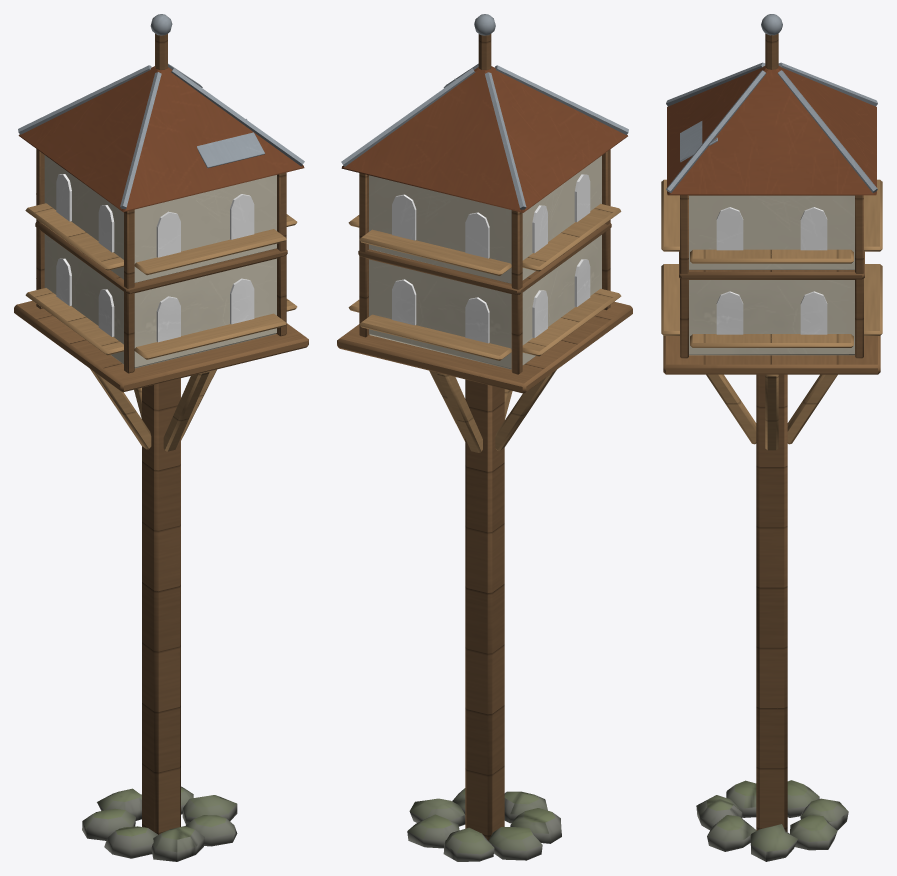
The model's file is dovecote.glb.
3 views of the same model, side by side, from view 1: azimuth 30°, elevation 25°; view 2: azimuth 150°, elevation 25°; view 3: azimuth 270°, elevation 25° (orthographic).
Visible parts, largest first — view 1: dovecote.001; view 2: dovecote.001; view 3: dovecote.001.
Part boxes in pixels (bbox=[...]): dovecote.001: bbox=[14, 14, 308, 861]; dovecote.001: bbox=[337, 14, 632, 861]; dovecote.001: bbox=[661, 14, 882, 861].
Size of the model in its own units: 1 by 4.12 by 1.
9 materials, 9 textured.
